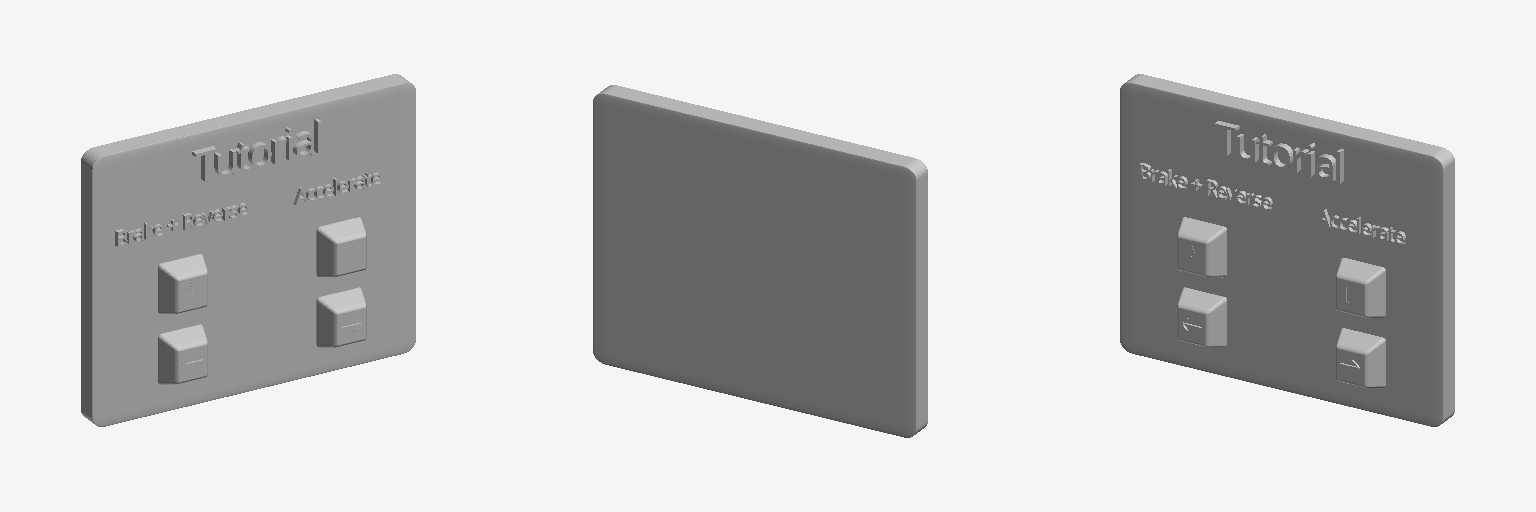
The model's file is TutorialUI.obj.
3 views of the same model, side by side, from view 1: azimuth 30°, elevation 25°; view 2: azimuth 150°, elevation 25°; view 3: azimuth 330°, elevation 25° (orthographic).
Visible parts, largest first — view 1: 039_Box, 001_Box_1, 002_Box_1, 015_Box_1, 016_Box_1; view 2: 039_Box; view 3: 039_Box, 001_Box_1, 015_Box_1, 016_Box_1, 002_Box_1.
Boxes of the visible parts, box(x1,y1,x2,y2) form: 039_Box: box(81, 74, 415, 426); 001_Box_1: box(316, 287, 366, 347); 002_Box_1: box(316, 217, 366, 277); 015_Box_1: box(158, 324, 207, 384); 016_Box_1: box(158, 254, 207, 313); 039_Box: box(593, 85, 927, 437); 039_Box: box(1120, 74, 1454, 426); 001_Box_1: box(1336, 328, 1385, 388); 015_Box_1: box(1177, 287, 1226, 347); 016_Box_1: box(1177, 217, 1226, 277); 002_Box_1: box(1336, 258, 1385, 317).
Bounding box in the file's own units: 150 × 120 × 21.97.